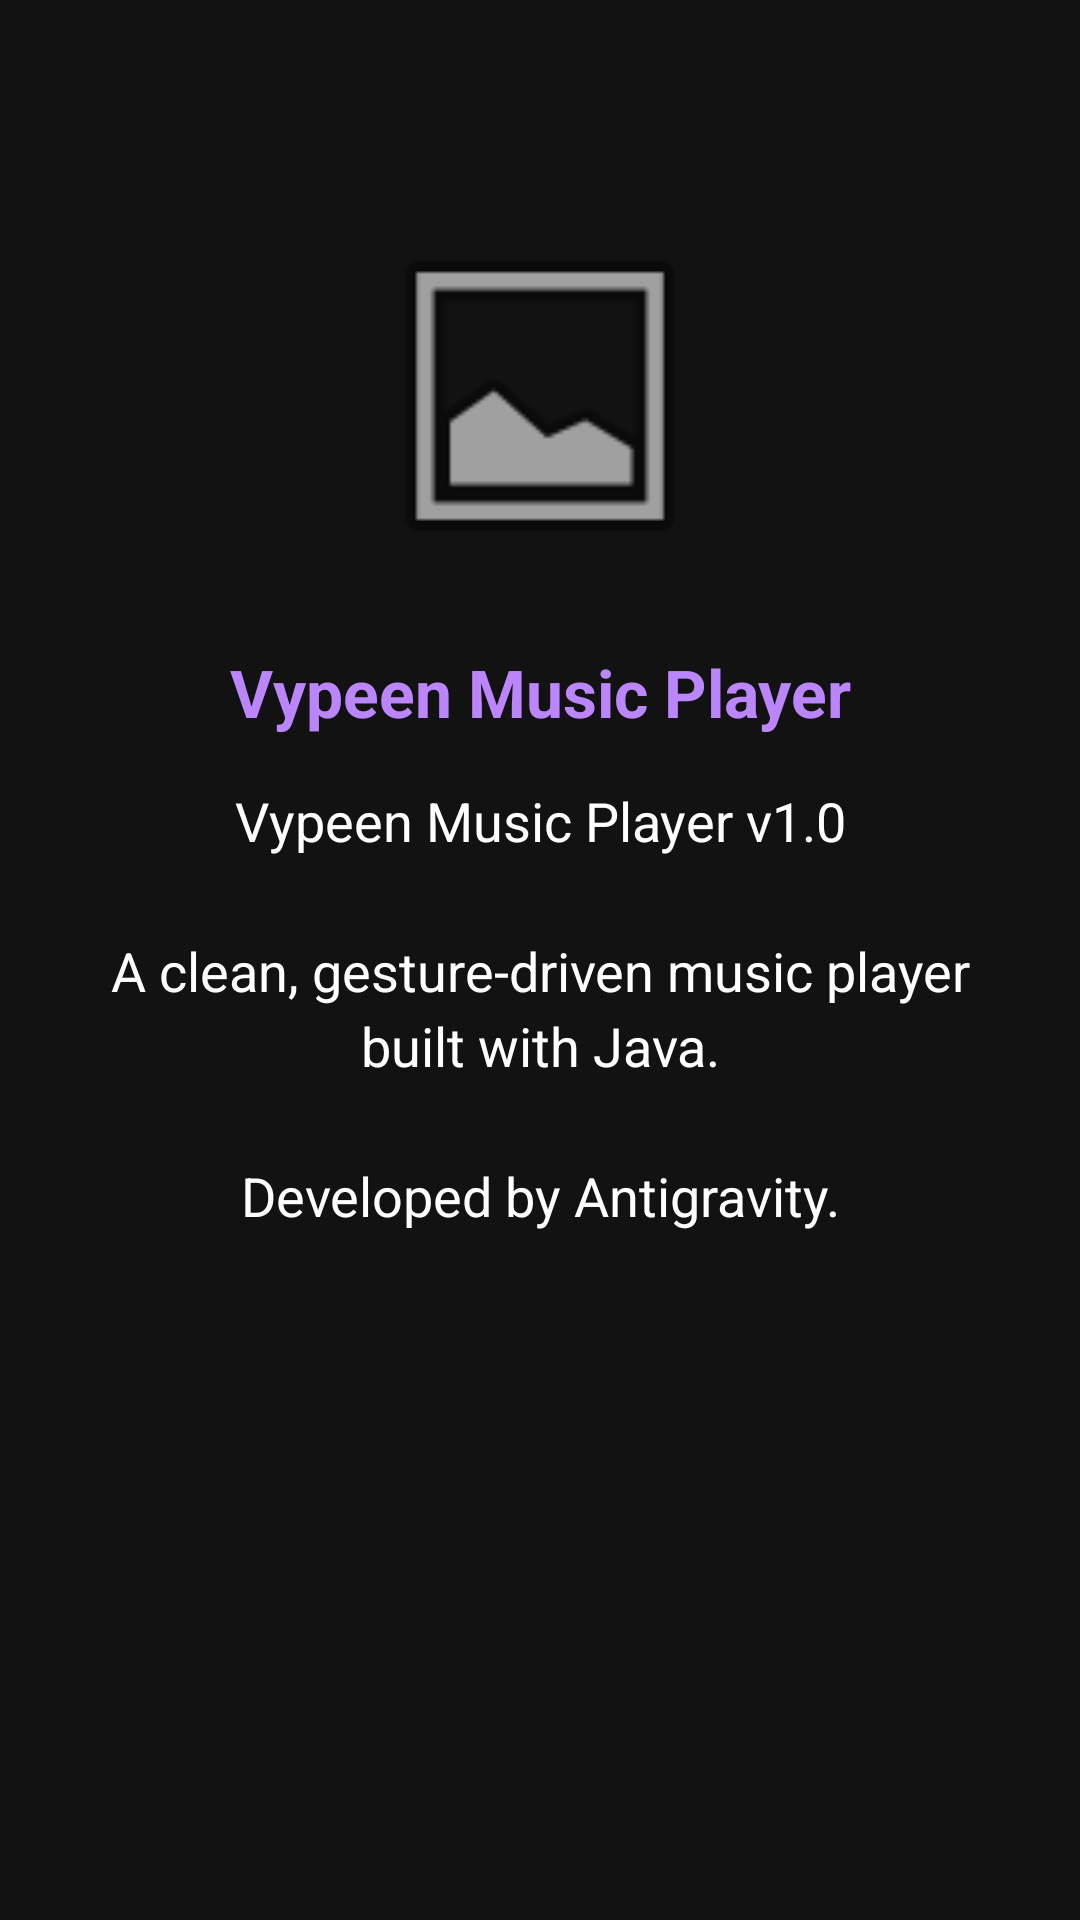

Named icons in this screenshot (1080px×1920px) and their centers, (x,y):
gallery: (540,396)
